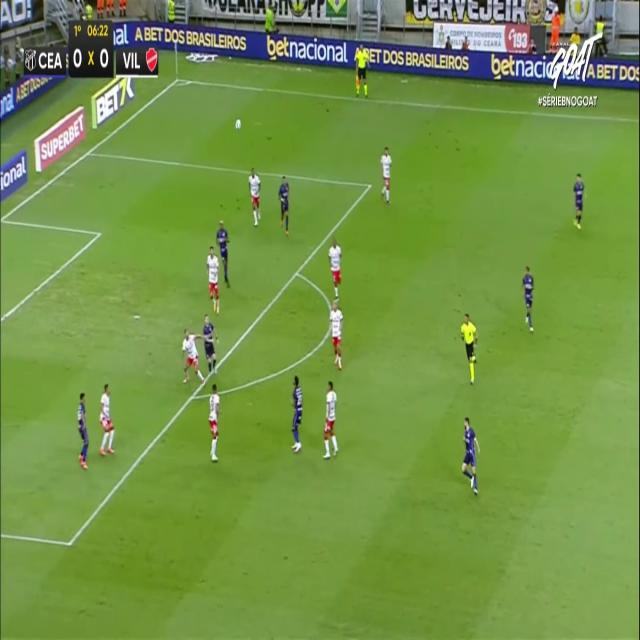ball: (235, 118, 241, 130)
player: (461, 417, 480, 494), (181, 328, 205, 385), (322, 380, 338, 458), (99, 382, 115, 455), (329, 298, 343, 369), (206, 245, 220, 314), (202, 314, 218, 374), (77, 391, 89, 469), (290, 374, 302, 452), (208, 383, 220, 461), (216, 219, 230, 285), (328, 236, 342, 298), (522, 264, 534, 332), (572, 172, 586, 228), (278, 174, 290, 236), (248, 166, 260, 227), (380, 146, 392, 203)
referee: (460, 312, 478, 384), (354, 38, 373, 104)
